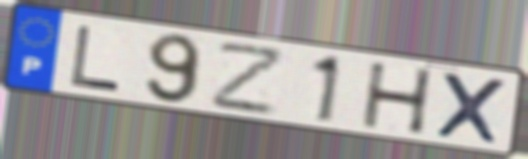1: (308, 55, 344, 125)
9: (143, 31, 208, 106)
H: (360, 61, 436, 137)
L: (68, 23, 125, 94)
X: (432, 69, 509, 148)
Z: (209, 41, 289, 117)
